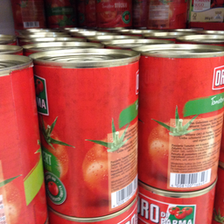tomato_sauce: (31, 48, 139, 218), (137, 43, 224, 193)
